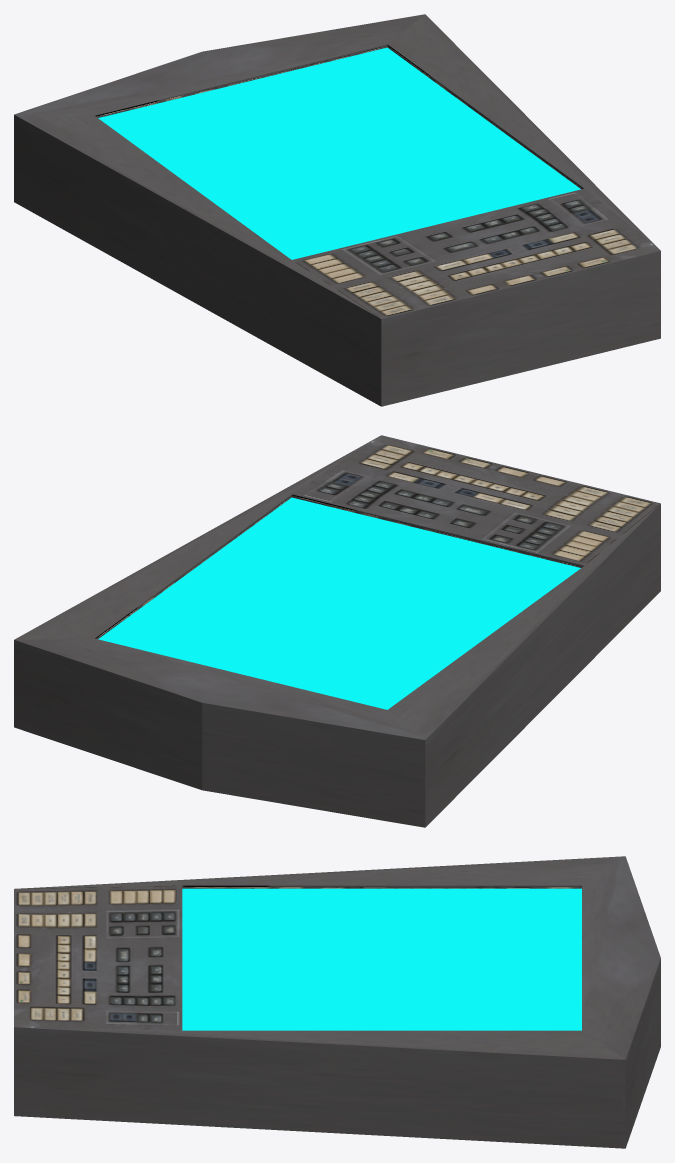
The model's file is pda.glb.
3 renders of one model, top to bottom at view 1: azimuth 30°, elevation 25°; view 2: azimuth 150°, elevation 25°; view 3: azimuth 270°, elevation 25°, orthographic.
Visible parts, largest first — view 1: Cube; view 2: Cube; view 3: Cube.
Part boxes in pixels (x1,y1,x2,y2): Cube: (14, 14, 660, 406); Cube: (14, 435, 660, 827); Cube: (14, 856, 660, 1148).
Bounding box in the file's own units: 0.7842 × 0.1596 × 1.05.
Materials: 2 (1 with a texture image).
